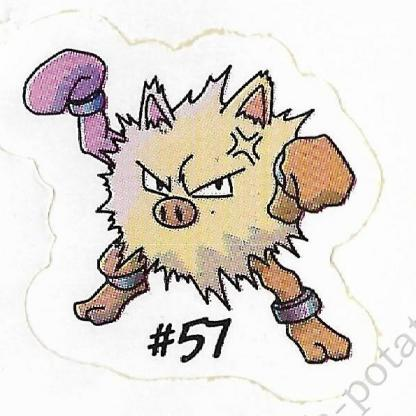Primeape: (32, 40, 372, 375)
